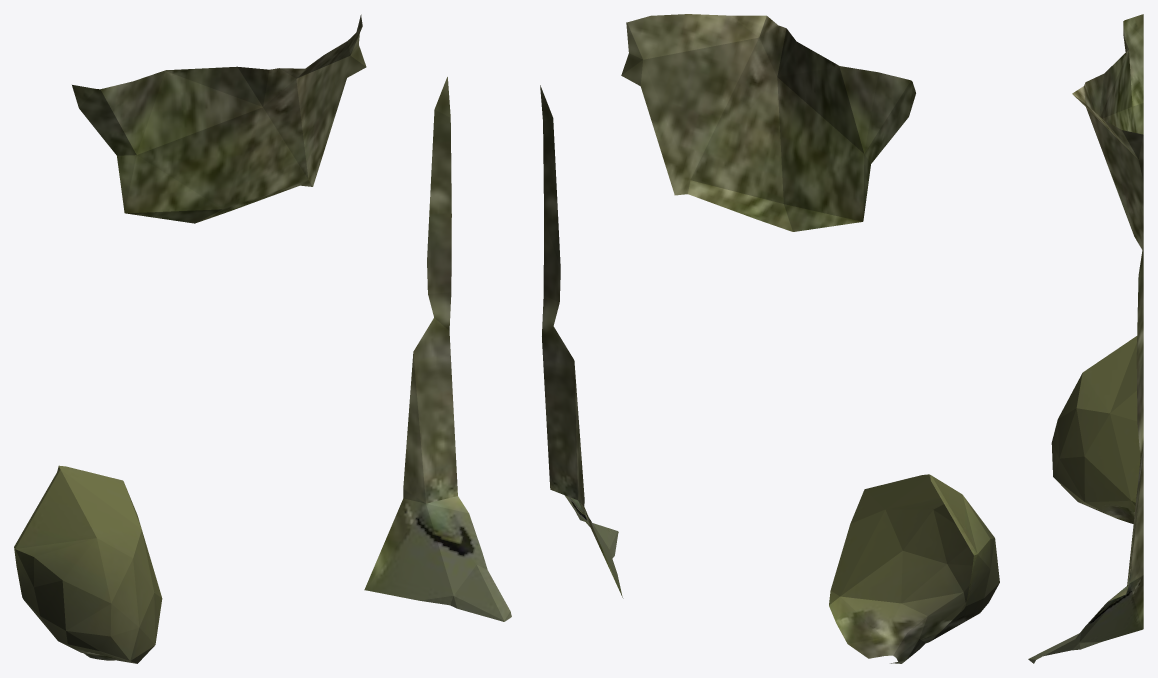
The picture shows the model from 3 angles, left to right: view 1: azimuth 30°, elevation 25°; view 2: azimuth 150°, elevation 25°; view 3: azimuth 270°, elevation 25°; orthographic projection. The views are drawn at different scales.
Size of the model in its own units: 2.33 by 2.95 by 0.6256.
Materials: 1 (1 with a texture image).
